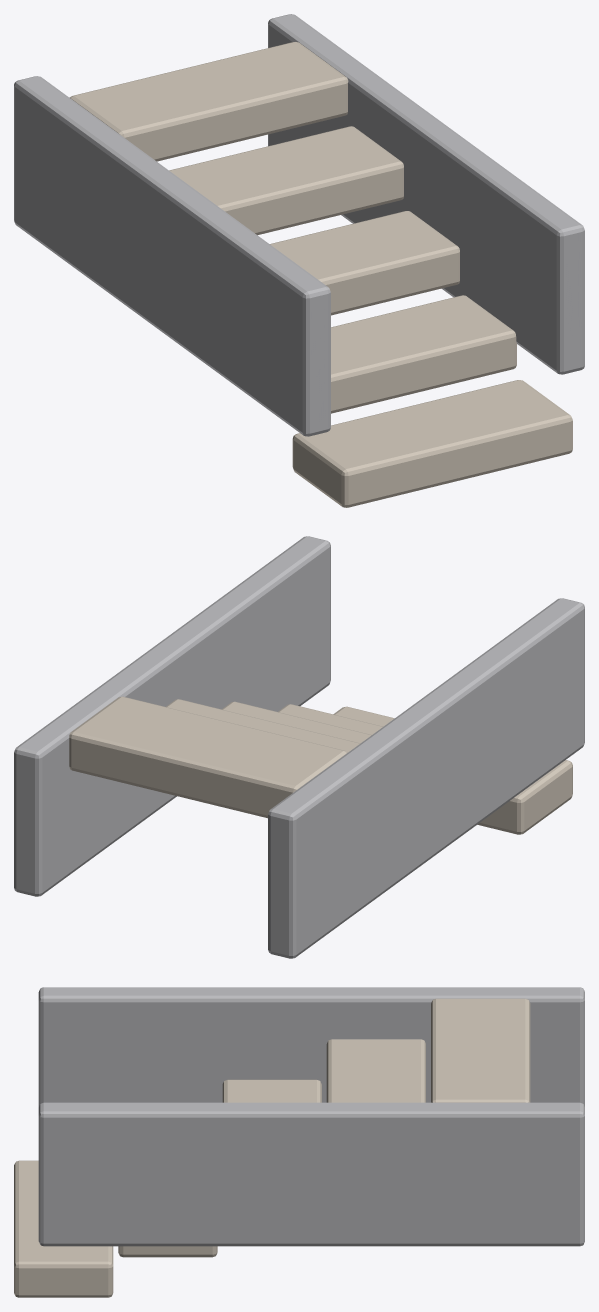
File: stone_steps_chibi.glb
3 views of the same model, one above another, from view 1: azimuth 30°, elevation 25°; view 2: azimuth 150°, elevation 25°; view 3: azimuth 270°, elevation 25° (orthographic). The views are drawn at different scales.
Parts seen in each view (by area): view 1: StoneSteps_chibi; view 2: StoneSteps_chibi; view 3: StoneSteps_chibi.
Boxes of the visible parts, <box> form: StoneSteps_chibi: <box>14,14,584,507</box>; StoneSteps_chibi: <box>14,536,584,958</box>; StoneSteps_chibi: <box>14,987,584,1297</box>.
Bounding box in the file's own units: 1.22 × 0.88 × 2.3.
